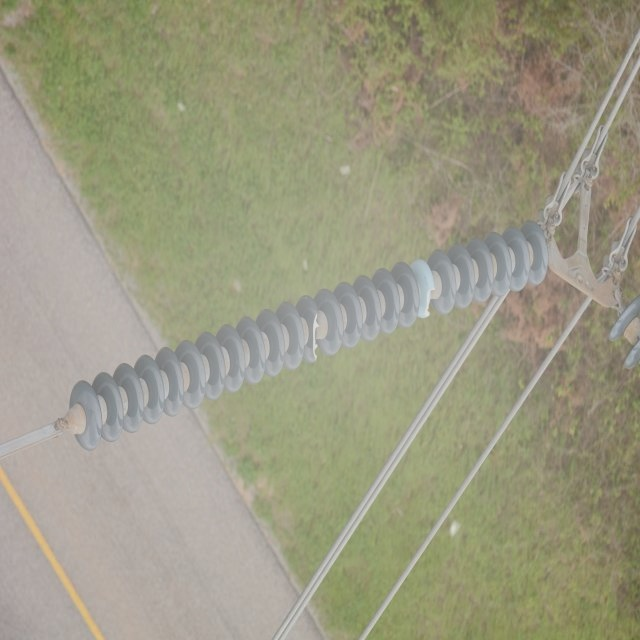broken: (308, 308, 318, 363), (425, 284, 436, 320)
insulator: (68, 220, 548, 453), (602, 286, 640, 369)
